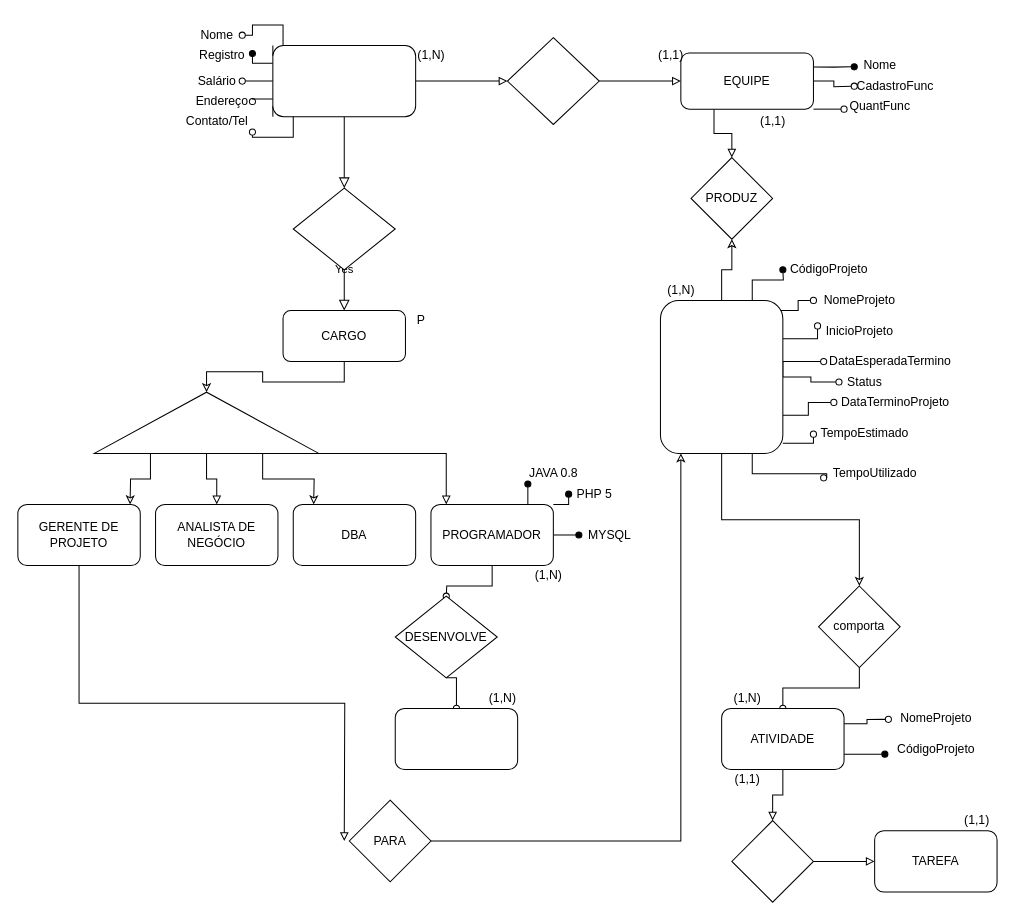
The diagram is 1015 pixels wide and 920 high, and some of its shapes have lost their labels. Each missing label, with the centre of its shape:
"DETÊM" belongs at (x=772, y=861).
"EXERCE" belongs at (x=343, y=228).
"FERRAMENTAS" belongs at (x=456, y=738).
"PROJETO" belongs at (x=721, y=376).
"RECURSO" belongs at (x=344, y=80).
"TRABALHA" belongs at (x=552, y=80).
